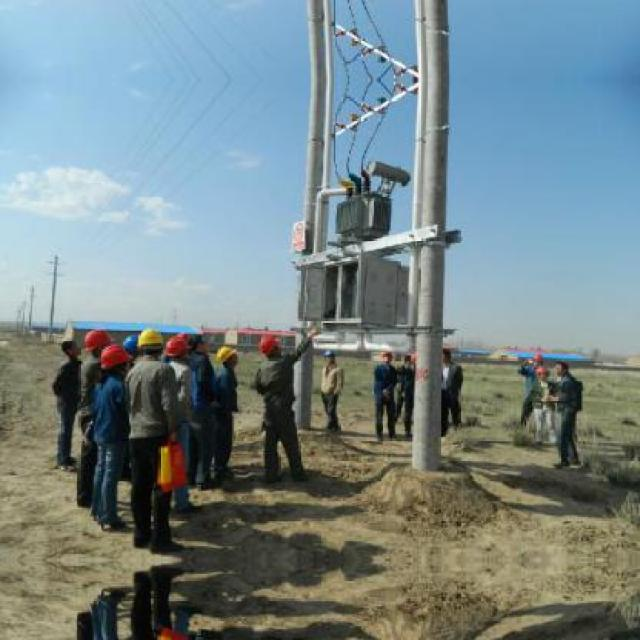helmet: (98, 346, 130, 367), (83, 330, 114, 351), (133, 326, 165, 346), (167, 333, 190, 355), (259, 334, 278, 355), (217, 346, 236, 358), (534, 363, 549, 375), (322, 348, 341, 356), (532, 353, 546, 361)
nohelmet: (61, 338, 80, 358), (556, 359, 568, 376)
